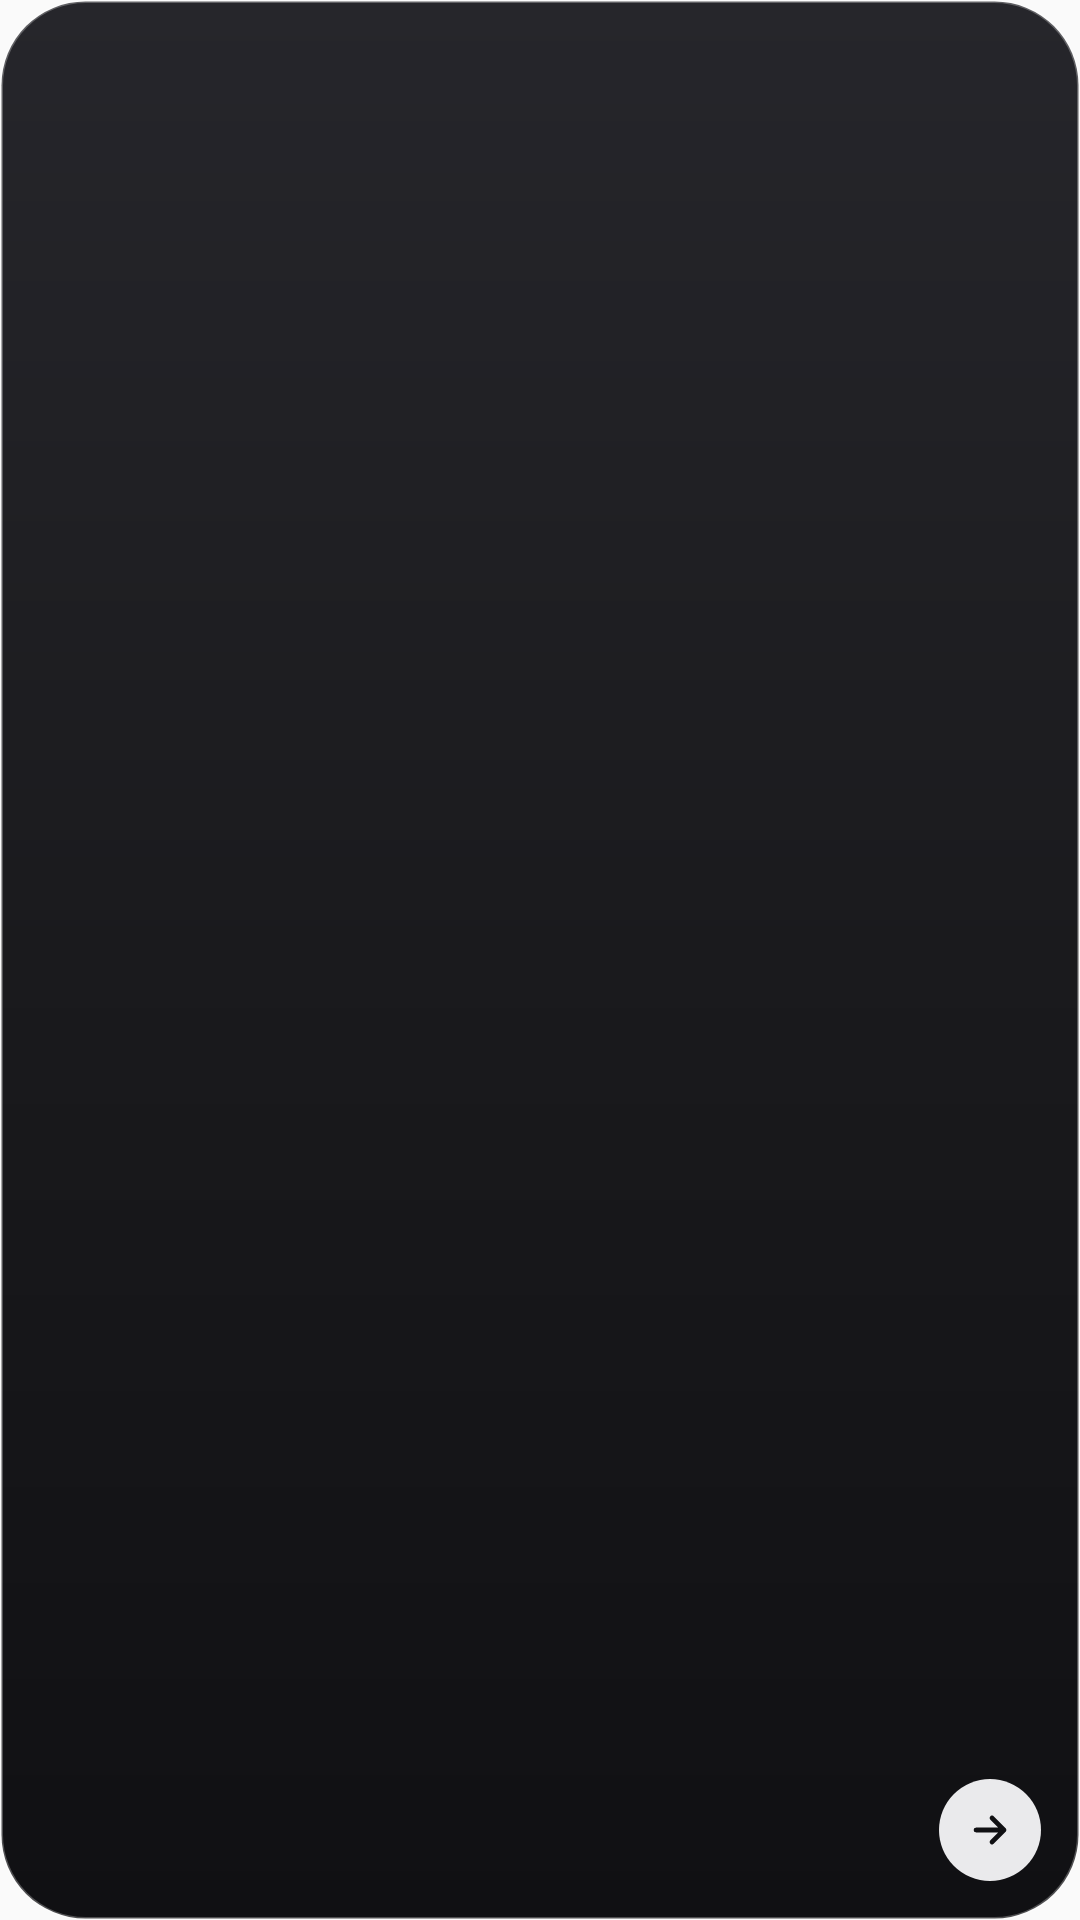

Screen size 1080×1920. Icon name, then its box in pixels as (x1, y1, x2, y2):
widget arrow: (939, 1779, 1041, 1881)
